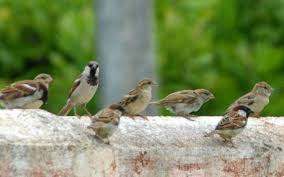hsparrow: (57, 57, 107, 124), (2, 66, 55, 120), (204, 103, 256, 150), (115, 77, 162, 124), (149, 88, 215, 120), (224, 79, 275, 115), (87, 102, 133, 141)
